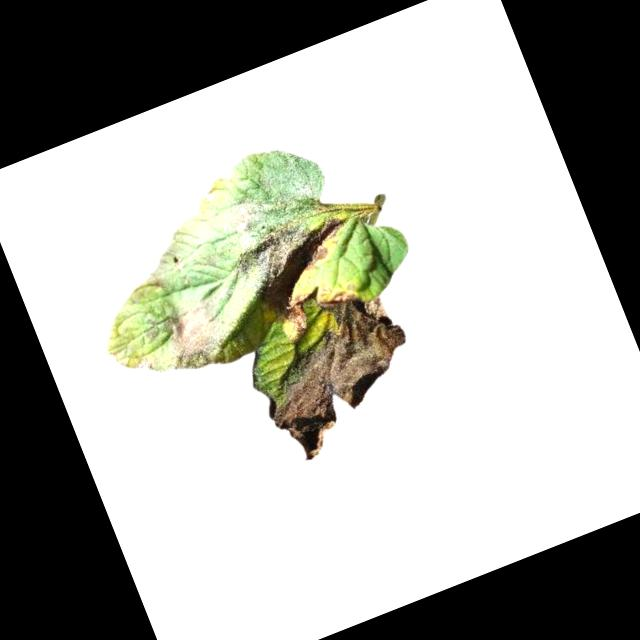Late_blight: (237, 271, 435, 468), (212, 170, 362, 321), (155, 296, 237, 376), (314, 275, 356, 311), (133, 349, 162, 379), (201, 188, 220, 207)
